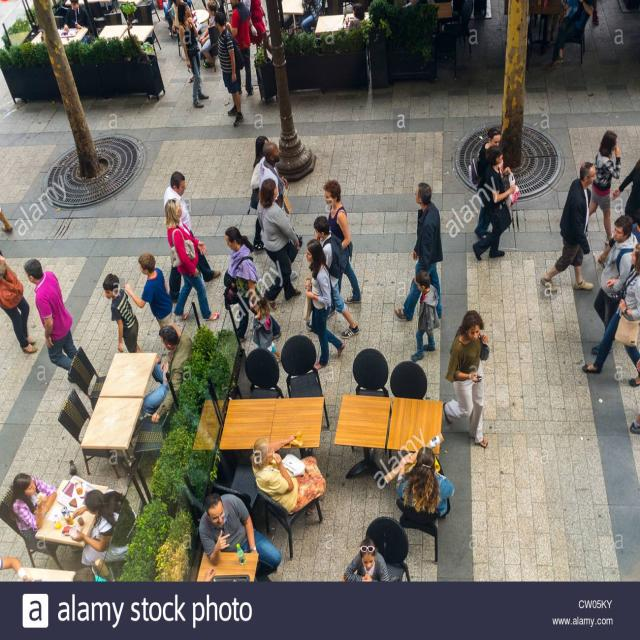body: (581, 242, 639, 388), (162, 169, 222, 304), (198, 489, 282, 582), (539, 160, 597, 294), (391, 180, 445, 321), (162, 196, 221, 323), (589, 213, 639, 359), (222, 225, 282, 345), (305, 213, 361, 340), (441, 308, 491, 450), (248, 430, 327, 517), (255, 175, 304, 312), (69, 485, 140, 577), (22, 257, 78, 372), (304, 238, 346, 369), (123, 252, 183, 342), (323, 180, 362, 318), (472, 145, 517, 262), (141, 324, 193, 424), (395, 444, 455, 520), (0, 249, 38, 355), (588, 129, 622, 247), (213, 11, 245, 128), (11, 471, 59, 548), (176, 1, 210, 109), (474, 126, 504, 240), (102, 272, 142, 354), (0, 555, 116, 582), (223, 0, 255, 97), (549, 0, 594, 68), (409, 268, 441, 362), (608, 158, 640, 249), (258, 141, 293, 215), (248, 135, 270, 252), (250, 293, 282, 365), (342, 537, 390, 582), (177, 0, 202, 84), (242, 0, 272, 58), (63, 0, 94, 45), (199, 0, 218, 68), (298, 0, 326, 35), (162, 0, 192, 29), (347, 2, 365, 32), (0, 205, 13, 236), (586, 0, 600, 27), (628, 409, 640, 435), (631, 210, 640, 244), (201, 569, 216, 582)
